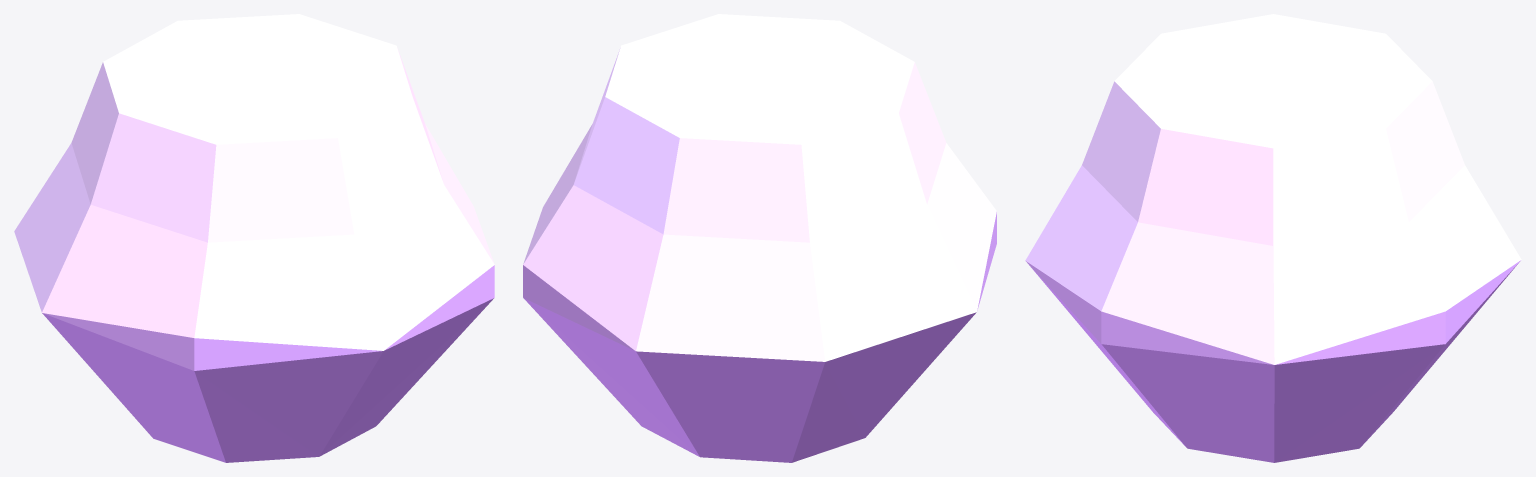
Rendered from 16-Crafting_gema_tallada.glb.
3 renders of one model, left to right at view 1: azimuth 30°, elevation 25°; view 2: azimuth 150°, elevation 25°; view 3: azimuth 270°, elevation 25°, orthographic.
Visible parts, largest first — view 1: SM_Gema_M_Gema_Pabellon_Gema_Filetin_Gema_Corona; view 2: SM_Gema_M_Gema_Pabellon_Gema_Filetin_Gema_Corona; view 3: SM_Gema_M_Gema_Pabellon_Gema_Filetin_Gema_Corona.
Boxes of the visible parts, box(x1,y1,x2,y2) form: SM_Gema_M_Gema_Pabellon_Gema_Filetin_Gema_Corona: box(14, 14, 494, 462); SM_Gema_M_Gema_Pabellon_Gema_Filetin_Gema_Corona: box(523, 14, 996, 462); SM_Gema_M_Gema_Pabellon_Gema_Filetin_Gema_Corona: box(1025, 14, 1521, 462).
Size of the model in its own units: 0.3057 by 0.225 by 0.3057.
